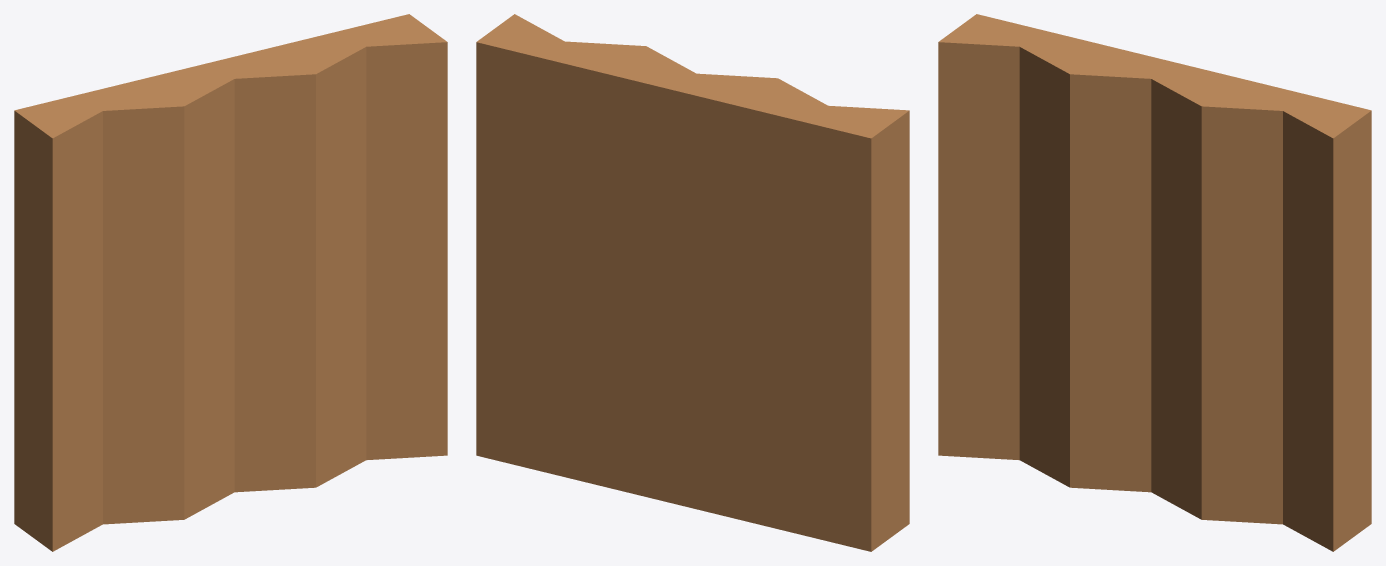
File: cliff-wall.glb
3 views of the same model, side by side, from view 1: azimuth 30°, elevation 25°; view 2: azimuth 150°, elevation 25°; view 3: azimuth 330°, elevation 25° (orthographic).
Parts seen in each view (by area): view 1: cliff_rock; view 2: cliff_rock; view 3: cliff_rock.
Part boxes in pixels (bbox=[...]): cliff_rock: bbox=[14, 14, 447, 551]; cliff_rock: bbox=[476, 14, 909, 551]; cliff_rock: bbox=[938, 14, 1371, 551].
Size of the model in its own units: 4 by 4 by 0.6738.
